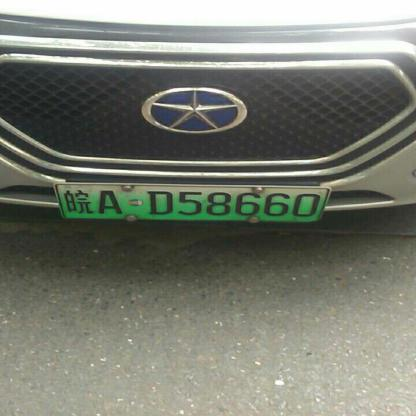lp: (55, 184, 63, 221)
